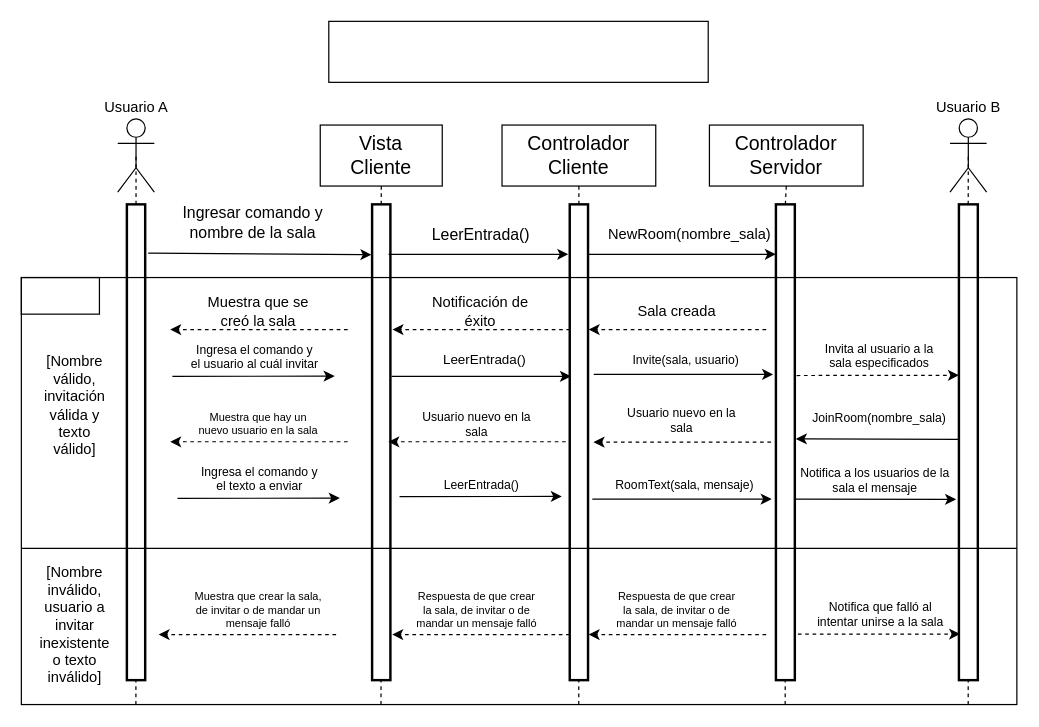
Some shapes in this 1039 by 727 pixel diagram are drawn without their labels. The centre of each missing label's shape, as x and y in pixels:
"alt" belongs at (x=59, y=295).
"NEW_ROOM, INVITE, JOIN_ROOM, ROOM_TEXT" belongs at (x=518, y=51).
